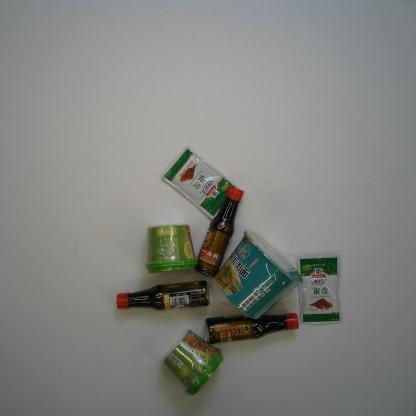Instant Drink: (160, 328, 225, 396), (144, 222, 199, 276)
Instant Noodles: (214, 229, 304, 321)
Seasoner: (161, 145, 239, 220), (195, 185, 245, 278), (297, 255, 343, 324), (204, 312, 300, 345), (116, 280, 211, 311)
